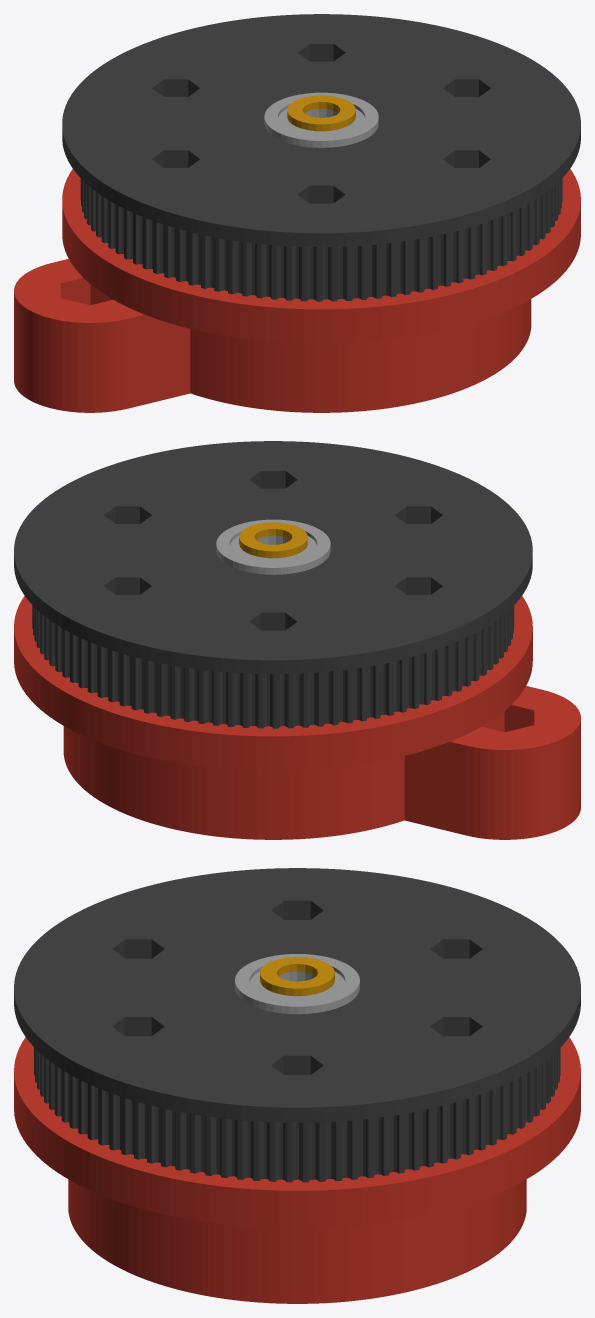
Rendered from link_j3_lever.dae.
The picture shows the model from 3 angles, top to bottom: view 1: azimuth 30°, elevation 25°; view 2: azimuth 150°, elevation 25°; view 3: azimuth 270°, elevation 25°; orthographic projection. The views are drawn at different scales.
Parts seen in each view (by area): view 1: node1, node5, node4, node3, node2; view 2: node1, node5, node4, node3, node2; view 3: node1, node5, node4, node3, node2.
Part boxes in pixels (x1,y1,x2,y2): node1: [62, 14, 580, 301]; node5: [14, 259, 531, 412]; node4: [62, 169, 580, 343]; node3: [264, 92, 378, 147]; node2: [287, 95, 355, 131]; node1: [14, 441, 532, 728]; node5: [63, 686, 580, 839]; node4: [14, 596, 532, 770]; node3: [216, 519, 330, 574]; node2: [239, 522, 307, 558]; node1: [14, 868, 580, 1182]; node5: [68, 1179, 526, 1303]; node4: [14, 1037, 580, 1228]; node3: [235, 954, 359, 1014]; node2: [260, 957, 334, 995].
Size of the model in its own units: 0.079 by 0.068 by 0.032.
